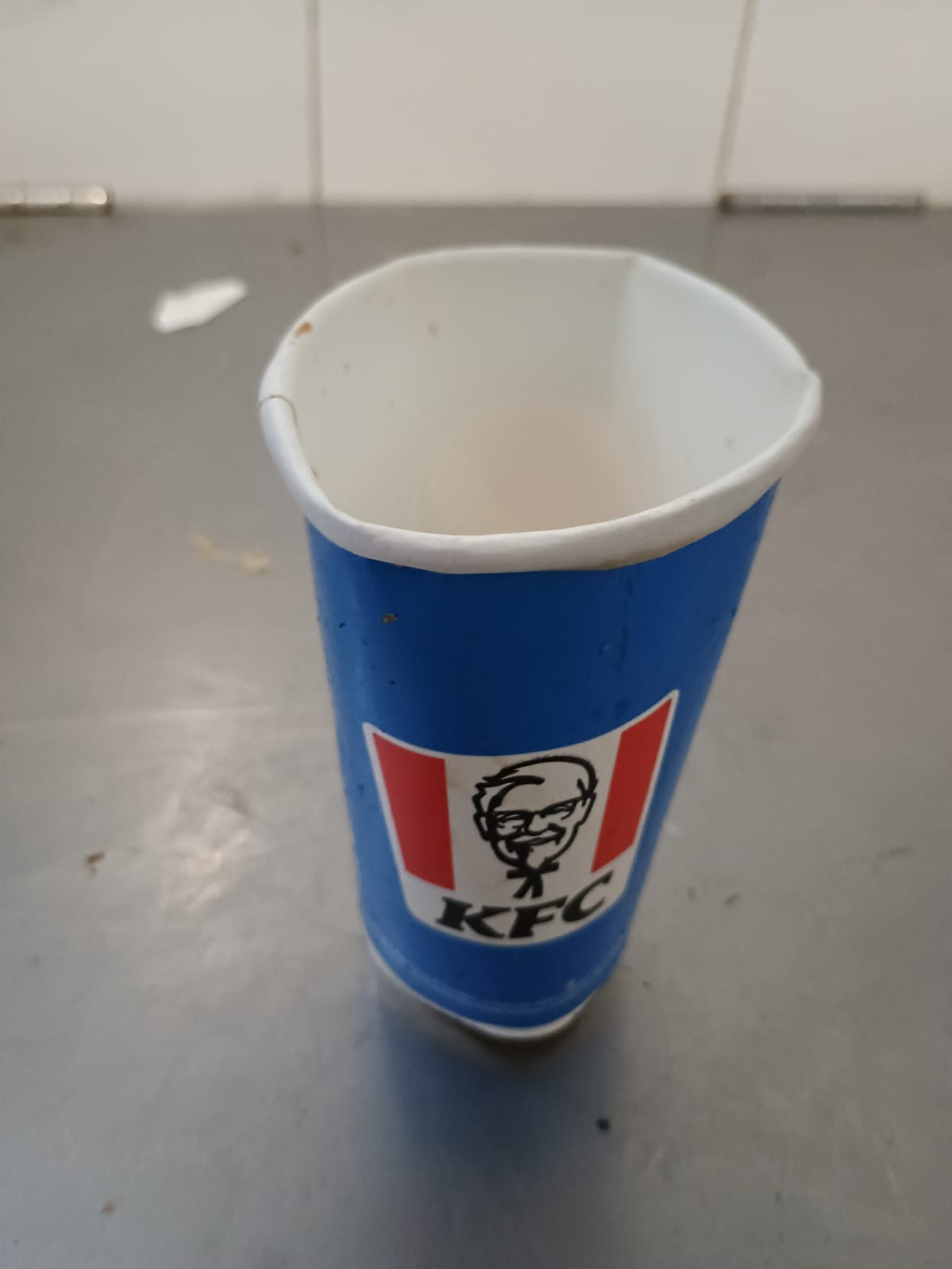Carton: (257, 242, 821, 1044)
